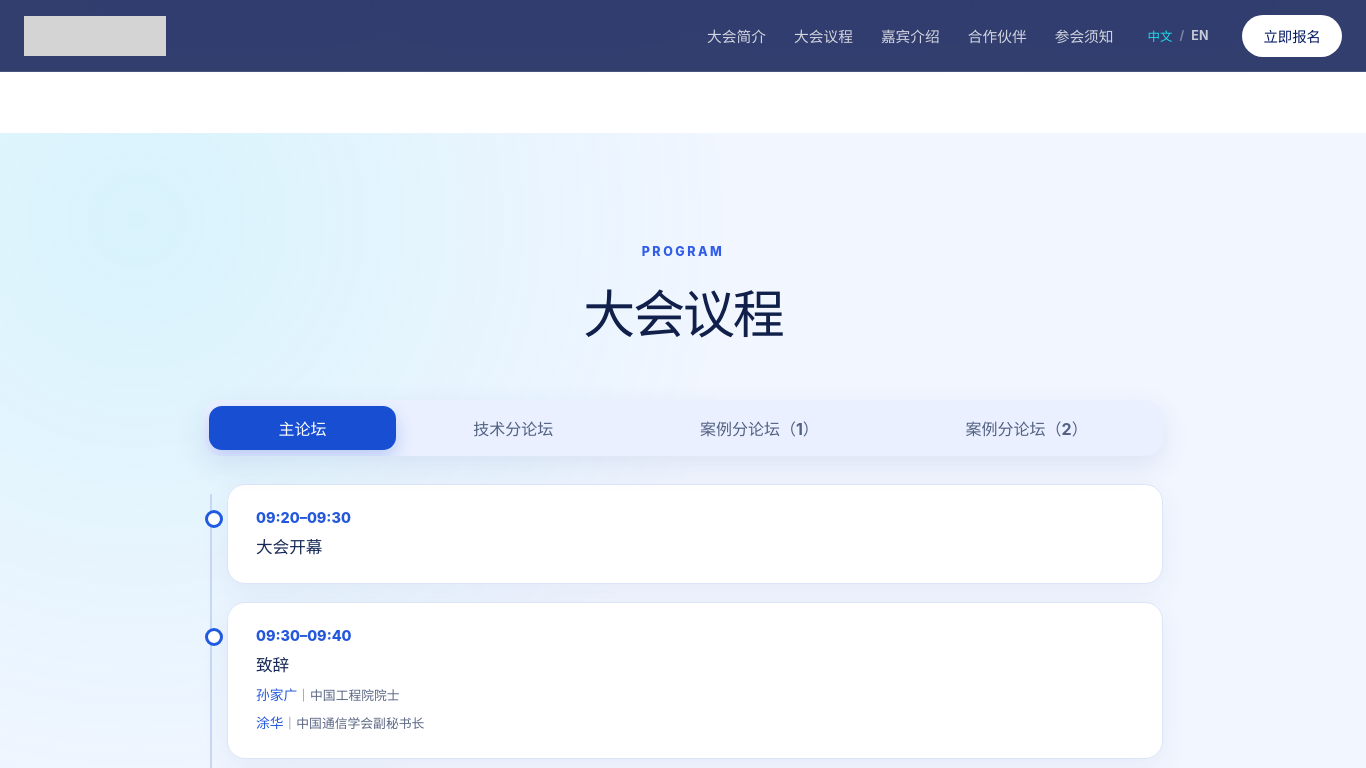
Scenario: 大会官网 › 案例分论坛二的李江职务只保留一个副总
The width and height of the screenshot is (1366, 768).
(page scrolled)
Step 1. Click the tab "案例分论坛（2）" → (1027, 428), box 896,406 -> 1157,450
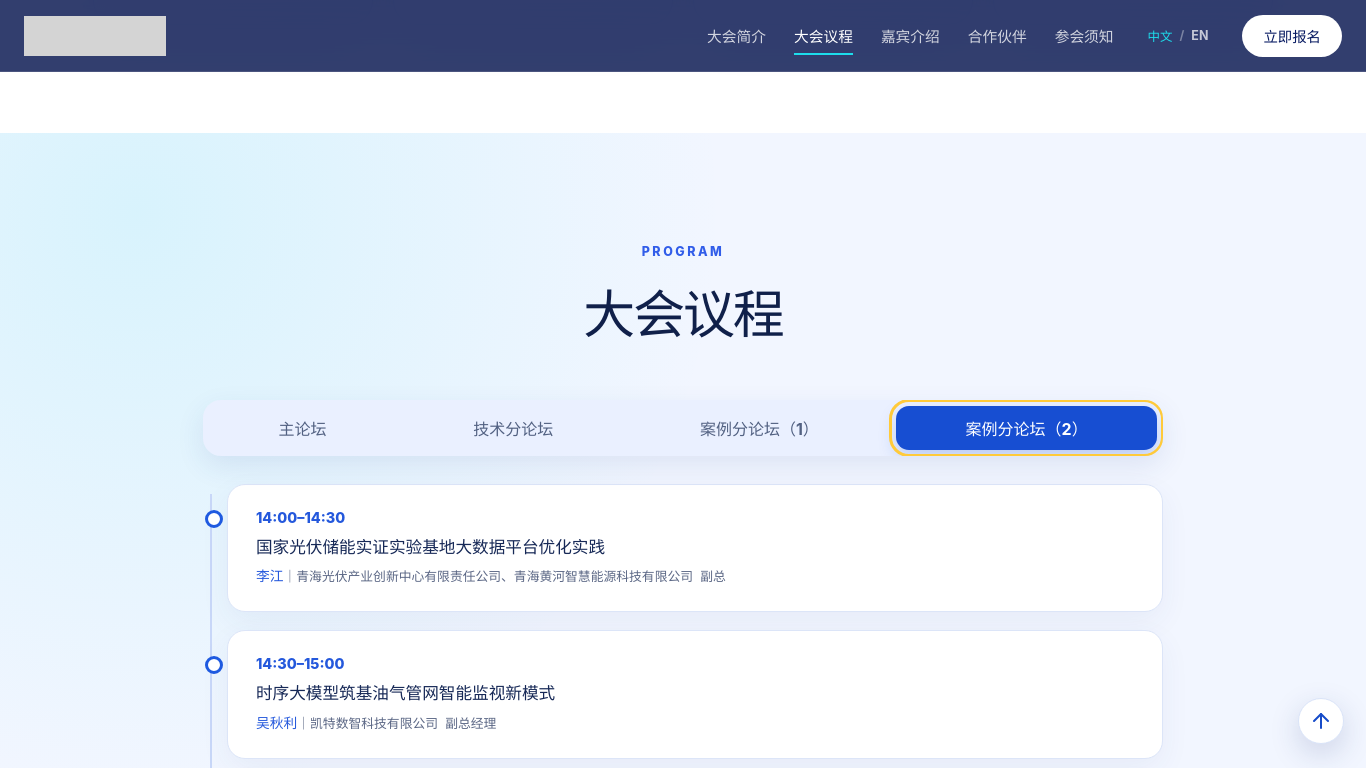
Expected: the text "李江" does not show "副总、副总", 227,484 -> 1163,612
Expected: the text "李江" shows "副总", 700,569 -> 726,584
